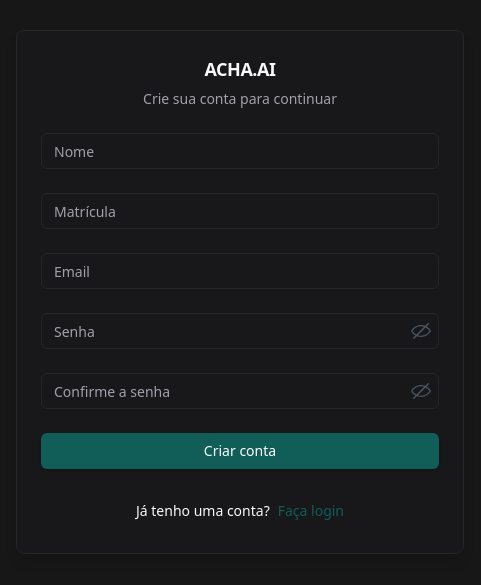
Scenario: User Registration › should display an error if the email is invalid
The image size is (481, 585).
Type "Nome Teste" into the field named "name".
click(240, 151); type("Nome Teste")  # box [41,133,439,169]
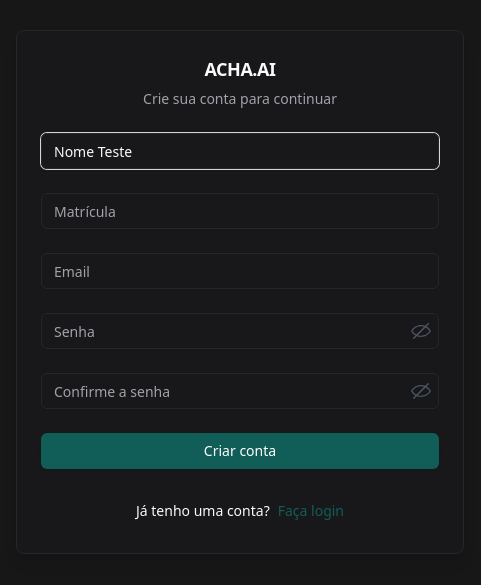
Type "123456789" into the field named "enrollment".
click(240, 211); type("123456789")  # box [41,193,439,229]
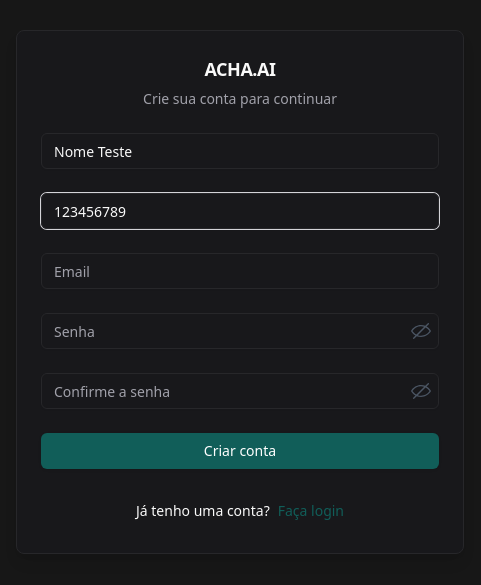
Type "email@invalido" into the field named "email".
click(240, 271); type("email@invalido")  # box [41,253,439,289]
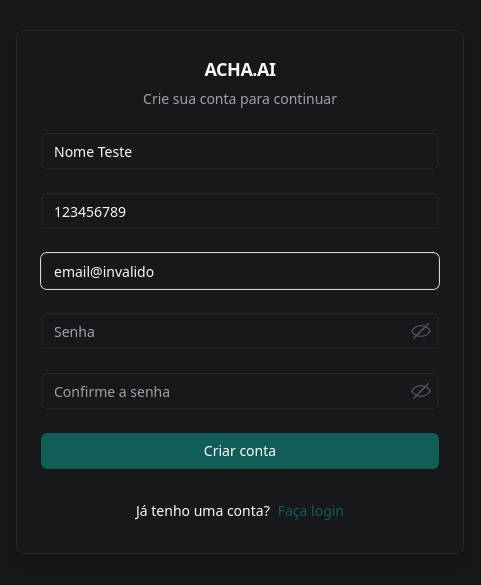
Type "senha123" into the password field named "password".
click(240, 331); type("senha123")  # box [41,313,439,349]
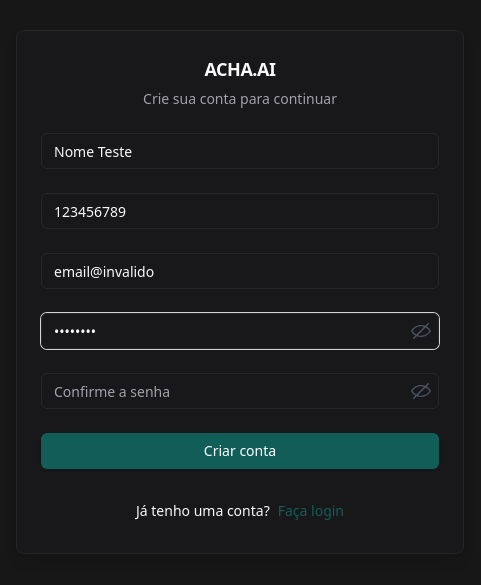
Type "senha123" into the password field named "confirmPassword".
click(240, 391); type("senha123")  # box [41,373,439,409]
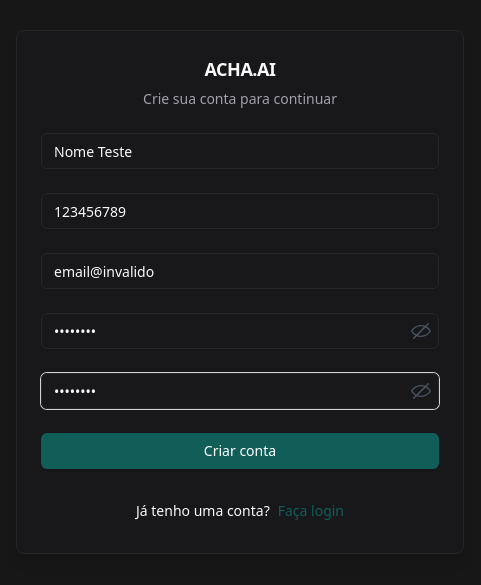
Click the submit button.
click(240, 451)  # box [41,433,439,469]
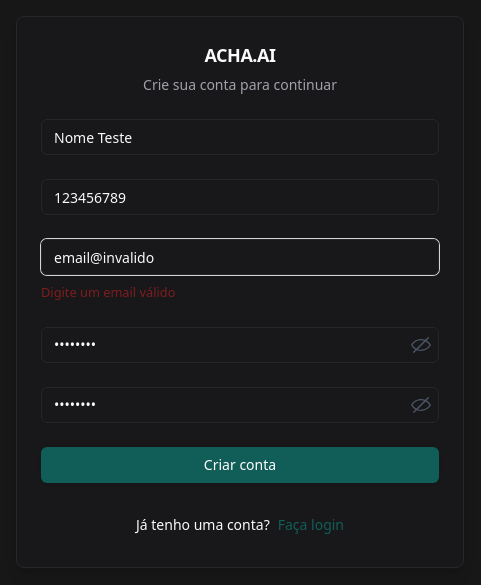
Check: the text "Digite um email válido" is shown, box [41,283,175,301]
